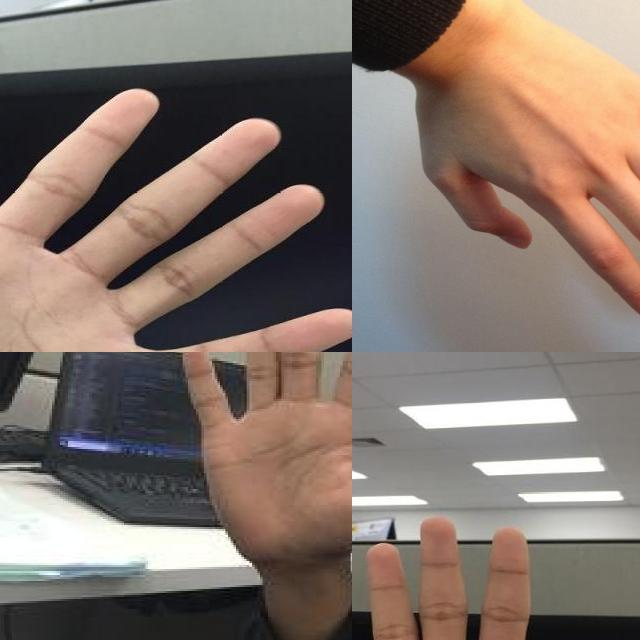no-gloves: (0, 87, 352, 352), (409, 0, 640, 325), (177, 352, 352, 561), (352, 516, 640, 640)
